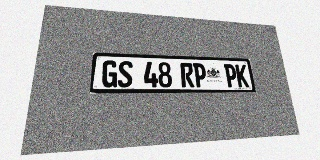4: (144, 61, 158, 87)
8: (158, 62, 172, 87)
G: (101, 60, 118, 87)
K: (235, 64, 249, 87)
P: (193, 63, 207, 87), (224, 64, 238, 87)
R: (180, 63, 194, 87)
S: (117, 61, 133, 87)
